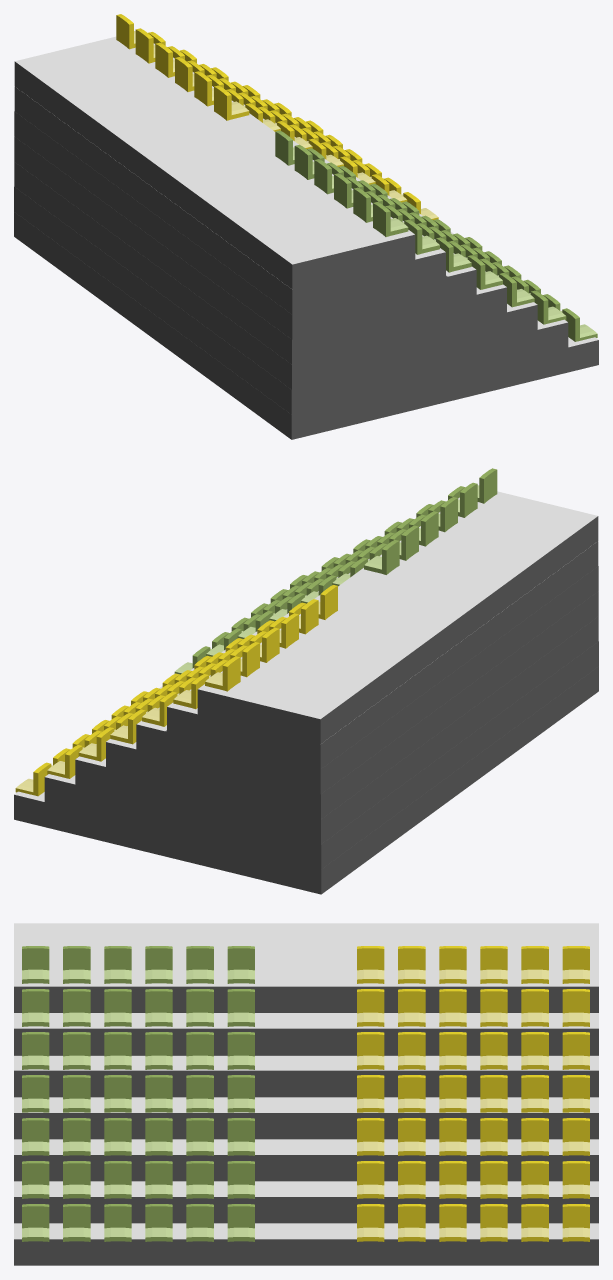
The model's file is ParedesVerdeAmarillo.fbx.
3 renders of one model, top to bottom at view 1: azimuth 30°, elevation 25°; view 2: azimuth 150°, elevation 25°; view 3: azimuth 270°, elevation 25°, orthographic. The views are drawn at different scales.
Parts seen in each view (by area): view 1: Gradas, Sillas, Sillas.001; view 2: Gradas, Sillas.001, Sillas; view 3: Gradas, Sillas.001, Sillas.
Part boxes in pixels (x1,y1,x2,y2): Gradas: (14, 36, 598, 439); Sillas: (275, 130, 597, 341); Sillas.001: (116, 14, 438, 219); Gradas: (14, 491, 598, 894); Sillas.001: (15, 585, 337, 796); Sillas: (174, 468, 497, 674); Gradas: (14, 923, 598, 1265); Sillas.001: (357, 946, 589, 1241); Sillas: (22, 946, 254, 1241).
Size of the model in its own units: 1296 by 805 by 2011.
Materials: 3 (3 with a texture image).
